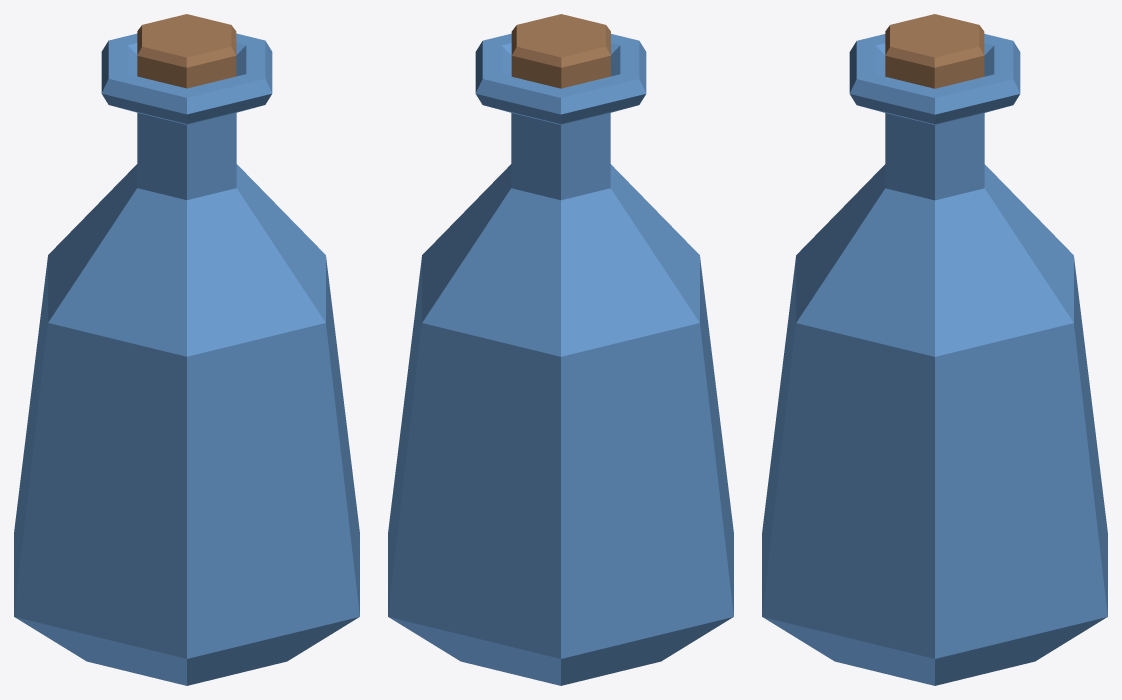
File: Blue_Potion_7.fbx
3 renders of one model, left to right at view 1: azimuth 30°, elevation 25°; view 2: azimuth 150°, elevation 25°; view 3: azimuth 270°, elevation 25°, orthographic.
Visible parts, largest first — view 1: Blue_Potion_7; view 2: Blue_Potion_7; view 3: Blue_Potion_7.
Boxes of the visible parts, <box> form: Blue_Potion_7: <box>14,14,359,685</box>; Blue_Potion_7: <box>388,14,733,685</box>; Blue_Potion_7: <box>762,14,1107,685</box>.
Bounding box in the file's own units: 20.48 × 34.03 × 17.74.
